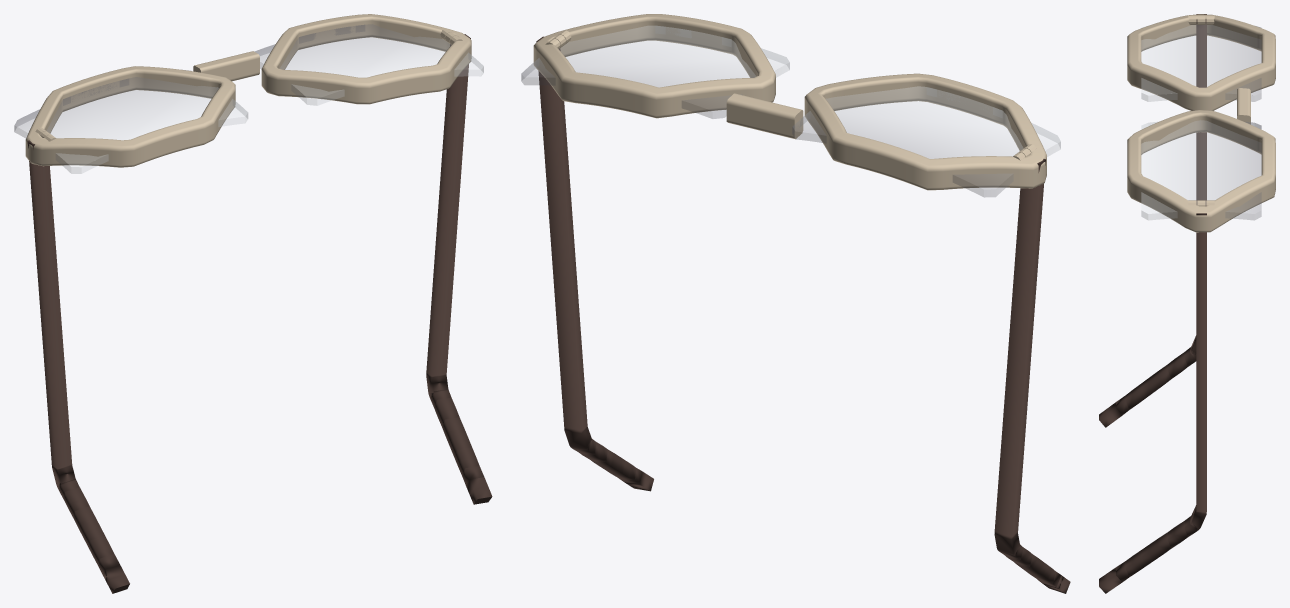
File: panto-metal.glb
3 views of the same model, side by side, from view 1: azimuth 30°, elevation 25°; view 2: azimuth 150°, elevation 25°; view 3: azimuth 270°, elevation 25° (orthographic). The views are drawn at different scales.
Parts seen in each view (by area): view 1: MEL_eyewear_Frame, MEL_eyewear_TempleR, MEL_eyewear_TempleL, MEL_eyewear_LensL, MEL_eyewear_LensR; view 2: MEL_eyewear_Frame, MEL_eyewear_LensL, MEL_eyewear_TempleL, MEL_eyewear_LensR, MEL_eyewear_TempleR; view 3: MEL_eyewear_Frame, MEL_eyewear_LensR, MEL_eyewear_LensL, MEL_eyewear_TempleL, MEL_eyewear_TempleR.
Boxes of the visible parts, left/top/right/bottom form: MEL_eyewear_Frame: left=25, top=14, right=471, bottom=167; MEL_eyewear_TempleR: left=27, top=140, right=129, bottom=593; MEL_eyewear_TempleL: left=426, top=34, right=492, bottom=504; MEL_eyewear_LensL: left=14, top=69, right=248, bottom=173; MEL_eyewear_LensR: left=254, top=24, right=483, bottom=105; MEL_eyewear_Frame: left=533, top=14, right=1046, bottom=190; MEL_eyewear_LensL: left=792, top=77, right=1060, bottom=197; MEL_eyewear_TempleL: left=536, top=36, right=653, bottom=491; MEL_eyewear_LensR: left=521, top=25, right=789, bottom=118; MEL_eyewear_TempleR: left=994, top=159, right=1070, bottom=593; MEL_eyewear_Frame: left=1127, top=14, right=1275, bottom=232; MEL_eyewear_LensR: left=1141, top=120, right=1261, bottom=220; MEL_eyewear_LensL: left=1141, top=25, right=1261, bottom=101; MEL_eyewear_TempleL: left=1099, top=213, right=1206, bottom=593; MEL_eyewear_TempleR: left=1099, top=14, right=1206, bottom=427.
Size of the model in its own units: 0.1339 by 0.1278 by 0.0499.
